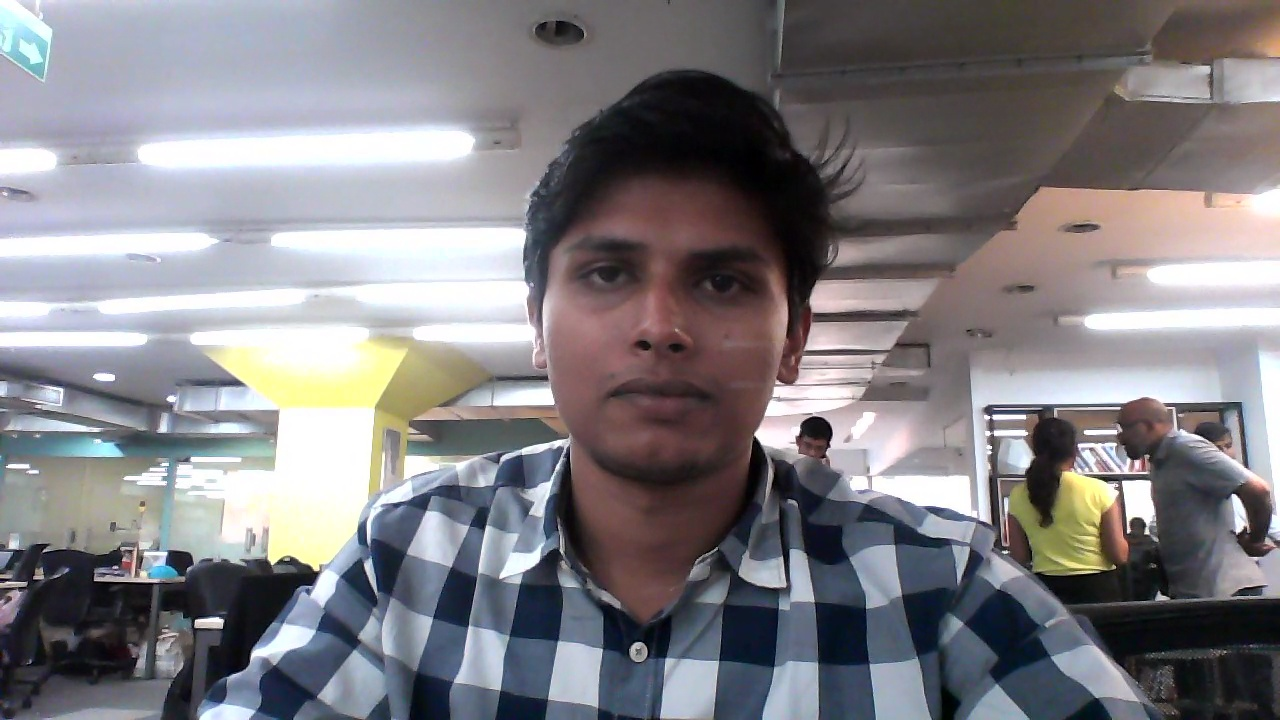open: (523, 67, 798, 480)
